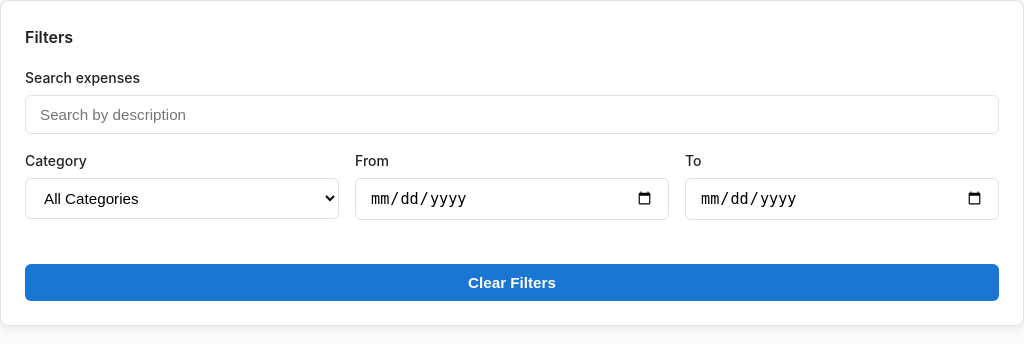
it: ExpenseFilter › applies category and date filters, then clears them
Select "Food" in the dropdown labelled "Category". click: [182, 198]
box: [25,178,339,219]
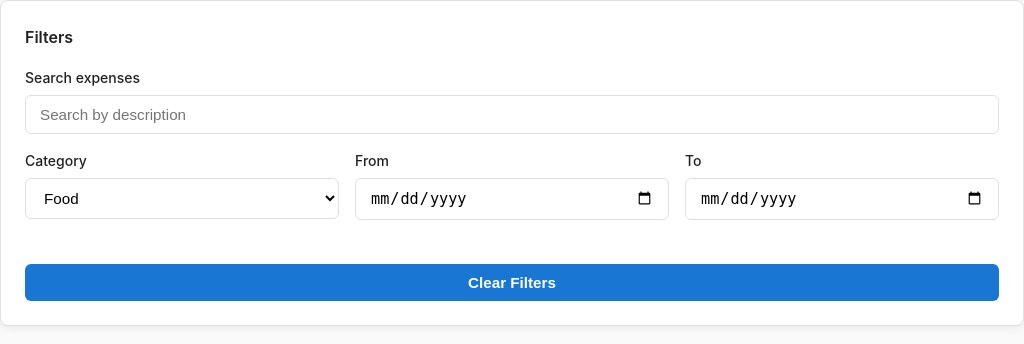
Type "2024-01-20" into the date field labelled "From". click: [512, 199]
box: [355,178,669,220]
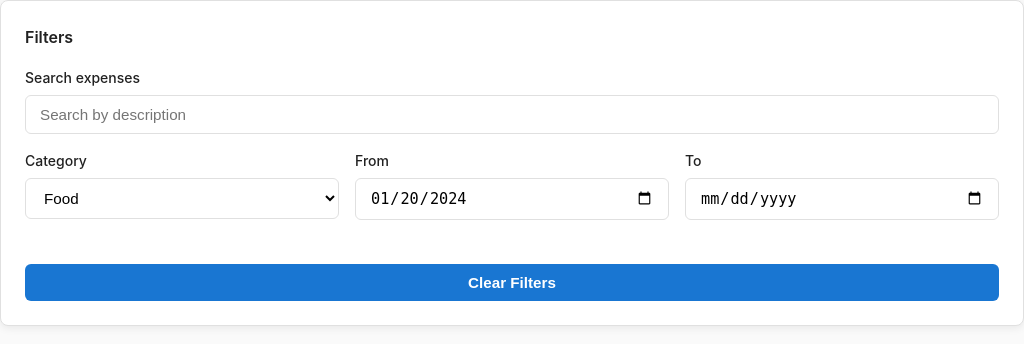
Click the button "Clear Filters". click: [512, 282]
box: [25,264,999,301]
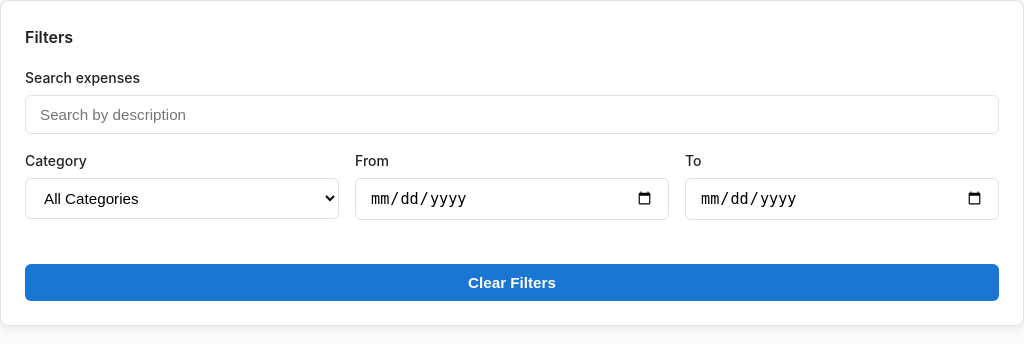
expect the search field labelled "Search expenses" is empty: met, box [25,95,999,134]
expect the date field labelled "From" is empty: met, box [355,178,669,220]
